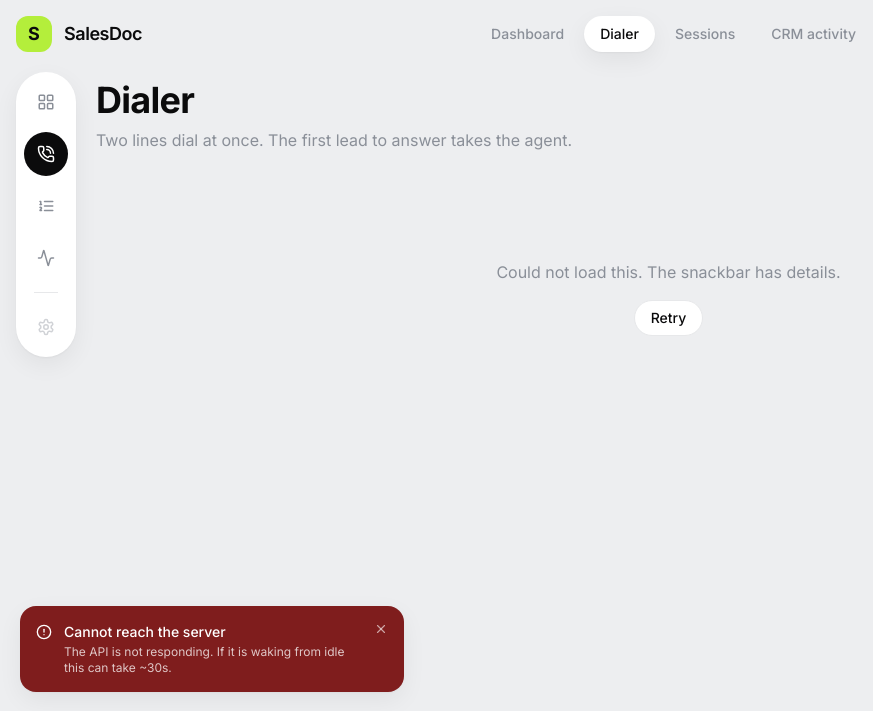
Scenario: error handling › lets a toast be dismissed
The width and height of the screenshot is (873, 711).
Click the button named "dismiss". click: (381,629)
box: x1=370 y1=618 x2=392 y2=640
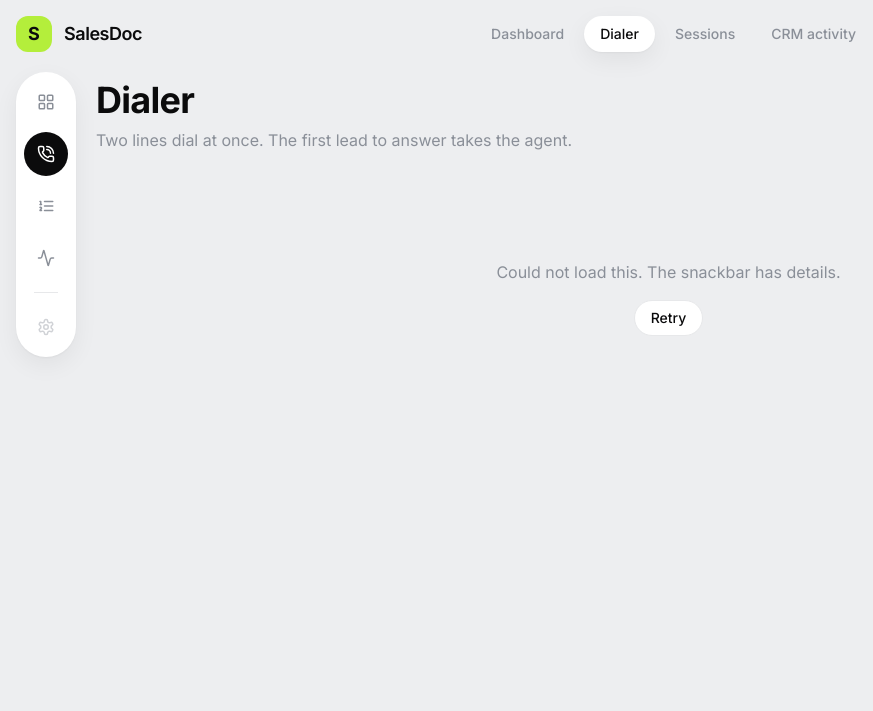
Expected: the text "Cannot reach the server" is gone
